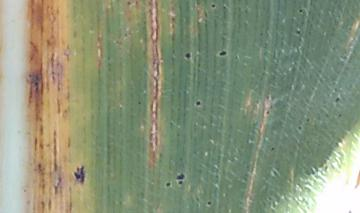tarspot: (73, 165, 87, 185), (175, 172, 186, 181), (33, 81, 40, 93), (218, 49, 227, 58), (206, 199, 214, 207), (184, 51, 191, 60), (195, 99, 202, 107), (176, 179, 184, 186), (296, 124, 303, 131), (264, 109, 271, 116), (337, 111, 343, 119), (165, 181, 171, 188), (269, 145, 275, 152), (334, 96, 340, 103), (295, 29, 302, 35), (210, 3, 217, 9), (136, 99, 142, 106), (297, 8, 303, 14), (125, 1, 132, 6)
